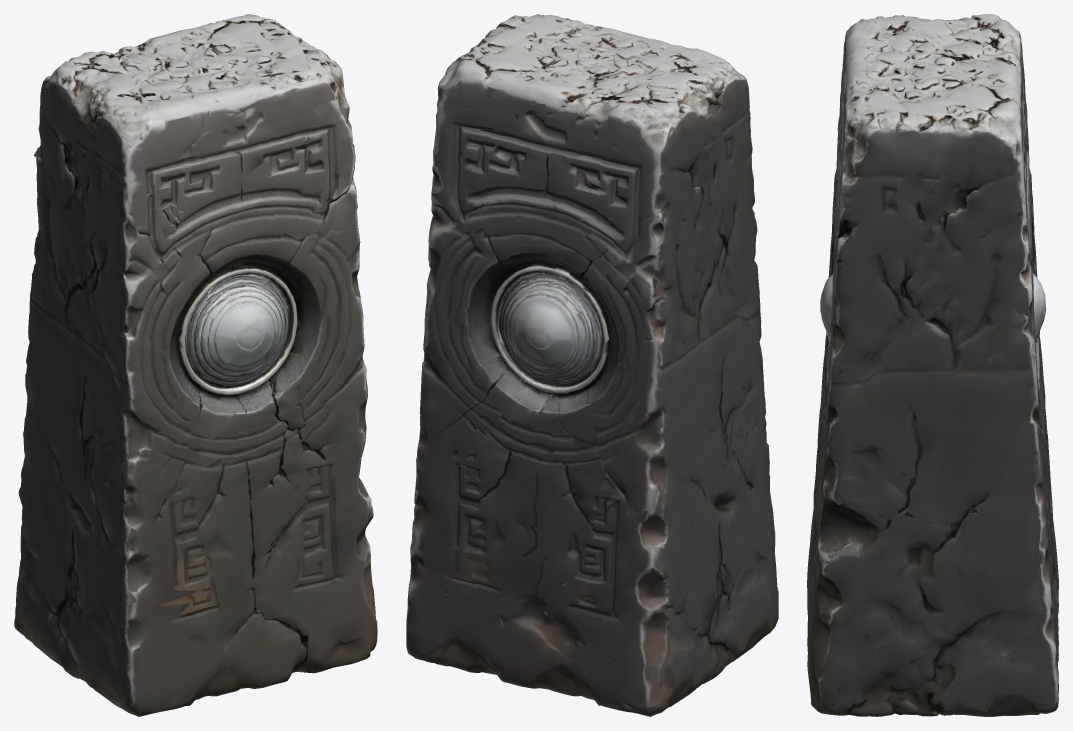
Rendered from Ancient_Stone_Relic.glb.
3 views of the same model, side by side, from view 1: azimuth 30°, elevation 25°; view 2: azimuth 150°, elevation 25°; view 3: azimuth 270°, elevation 25° (orthographic).
Visible parts, largest first — view 1: Ancient_Stone_Relic; view 2: Ancient_Stone_Relic; view 3: Ancient_Stone_Relic.
Part boxes in pixels (box(x1,y1,x2,y2)): Ancient_Stone_Relic: box(14, 14, 377, 716); Ancient_Stone_Relic: box(406, 14, 778, 716); Ancient_Stone_Relic: box(807, 14, 1058, 716).
Bounding box in the file's own units: 0.8868 × 1.9 × 0.7343.
1 material, 1 textured.
